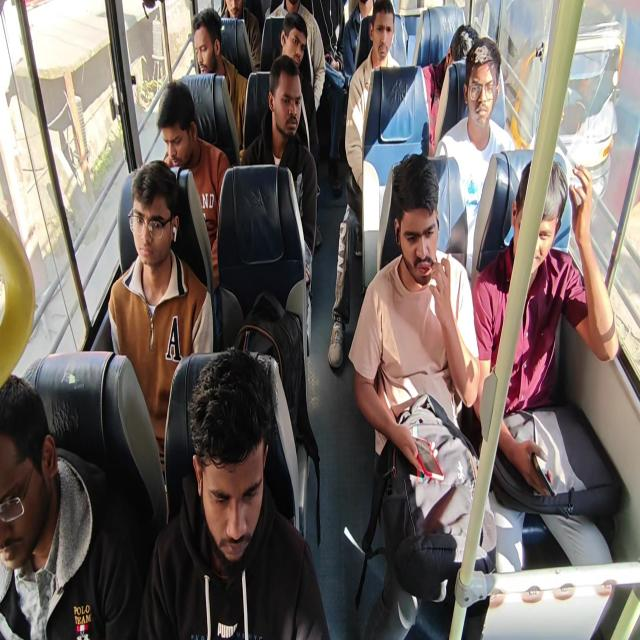person: (0, 285, 87, 582), (493, 193, 612, 369), (326, 161, 470, 294), (172, 358, 278, 535), (127, 162, 172, 305), (153, 82, 213, 166), (188, 13, 247, 98), (459, 57, 508, 143), (274, 88, 326, 157), (364, 0, 398, 84), (451, 29, 486, 94), (316, 0, 344, 59), (274, 8, 298, 68), (279, 0, 309, 34), (217, 0, 247, 30), (356, 0, 376, 20)
